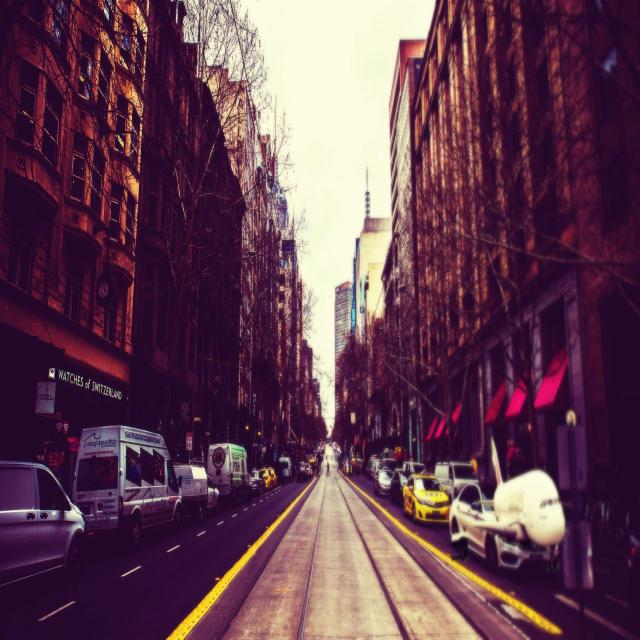airplane: (473, 436, 566, 574)
